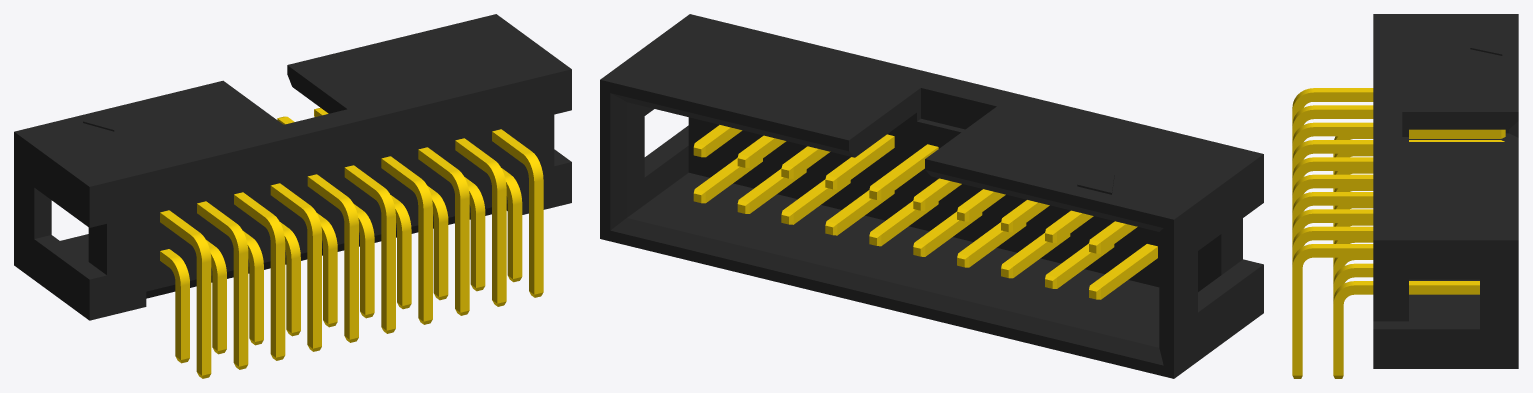
3 views of the same model, side by side, from view 1: azimuth 30°, elevation 25°; view 2: azimuth 150°, elevation 25°; view 3: azimuth 270°, elevation 25° (orthographic). The views are drawn at different scales.
Visible parts, largest first — view 1: IDC-R (CONNFLY); view 2: IDC-R (CONNFLY); view 3: IDC-R (CONNFLY).
Boxes of the visible parts, left/top/right/bottom form: IDC-R (CONNFLY): left=14, top=14, right=571, bottom=378; IDC-R (CONNFLY): left=600, top=14, right=1263, bottom=378; IDC-R (CONNFLY): left=1292, top=14, right=1518, bottom=378.
Bounding box in the file's own units: 0.0332 × 0.0119 × 0.014.
